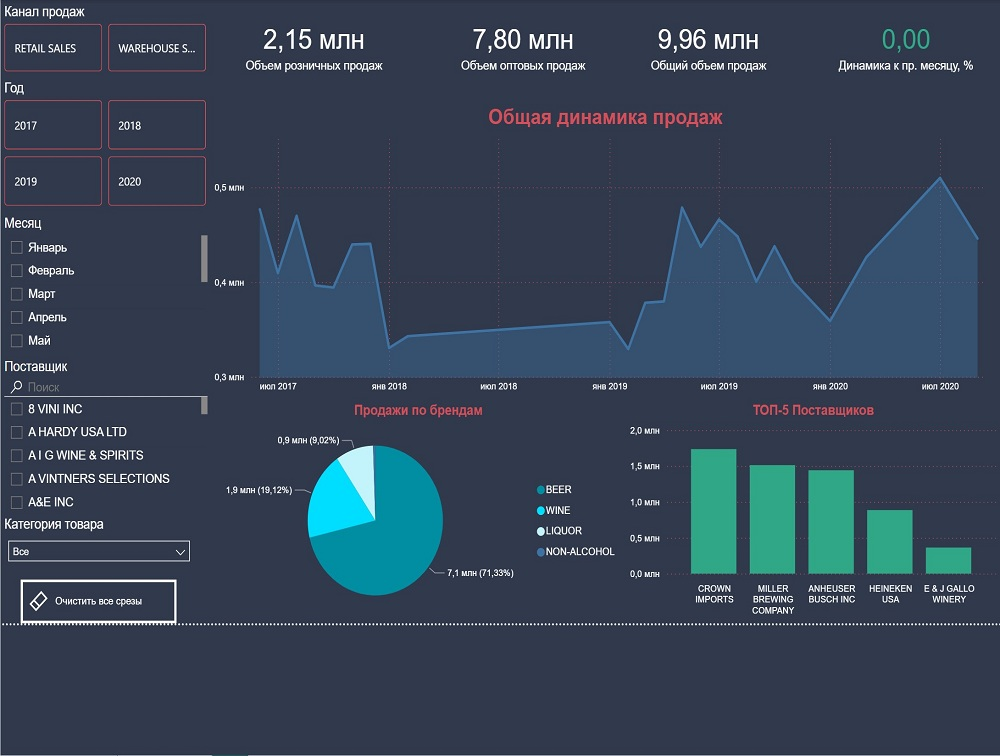

The page's visual inventory and layout, read from the dashboard file:
{"tool":"powerbi","page":{"name":"Страница 1","canvas":[1280,720],"ordinal":0},"visuals":[{"type":"lineChart","title":"Общая динамика продаж","fields":{"Y":["Sum(tbl_Sales_All.Sales Amount)"],"Category":["Dim_Date.Date"]},"box":[269.3,116.1,1010.7,345.9],"z":0},{"type":"pieChart","title":"Продажи по брендам","fields":{"Category":["Dim_Categories.ITEM TYPE"],"Y":["Sum(tbl_Sales_All.Sales Amount)"]},"box":[269.3,460.8,531.8,259.2],"z":1000},{"type":"columnChart","title":"ТОП-5 Поставщиков","fields":{"Category":["Dim_Suppliers.SUPPLIER"],"Y":["Sum(tbl_Sales_All.Sales Amount)"]},"box":[801.1,460.8,478.9,259.2],"z":2000},{"type":"card","fields":{"Values":["Sum(tbl_Sales_All.Sales Amount)"]},"box":[270.6,0,262.3,104.4],"z":3000},{"type":"card","fields":{"Values":["Sum(tbl_Sales_All.Sales Amount)"]},"box":[538.4,0,262.3,104.4],"z":4000},{"type":"card","fields":{"Values":["Sum(tbl_Sales_All.Sales Amount)"]},"box":[774.6,0,262.3,104.4],"z":5000},{"type":"advancedSlicerVisual","title":"Год","fields":{"Values":["Dim_Date.Year"]},"box":[0,88.4,268.8,155.9],"z":6000},{"type":"slicer","title":"Категория товара","fields":{"Values":["Dim_Categories.ITEM TYPE"]},"box":[0,592.2,252.6,61.4],"z":7000},{"type":"actionButton","box":[26.3,669.5,199.7,50.5],"z":8000},{"type":"slicer","title":"Месяц","fields":{"Values":["Dim_Date.Month name"]},"box":[0,244.4,270,165.2],"z":9000},{"type":"advancedSlicerVisual","title":"Канал продаж","fields":{"Values":["tbl_Sales_All.Sales Channel"]},"box":[0,0,268.8,88.4],"z":10000},{"type":"slicer","title":"Поставщик","fields":{"Values":["Dim_Suppliers.SUPPLIER"]},"box":[0,409.6,270,183.9],"z":11000},{"type":"card","fields":{"Values":["tbl_Sales_All.Sales MoM %"]},"box":[1036.9,0,244.5,104.4],"z":12000}]}

Visuals, with their boxes on the page's 1280x720 design canvas (x1, y1, x2, y2). These are canvas units, not pixel positions in the 1000x756 screenshot, which may show the page scaled, cropped or inside an application window:
"Общая динамика продаж" lineChart: BBox(269, 116, 1280, 462)
"Продажи по брендам" pieChart: BBox(269, 461, 801, 720)
"ТОП-5 Поставщиков" columnChart: BBox(801, 461, 1280, 720)
card - Sum(tbl_Sales_All.Sales Amount): BBox(271, 0, 533, 104)
card - Sum(tbl_Sales_All.Sales Amount): BBox(538, 0, 801, 104)
card - Sum(tbl_Sales_All.Sales Amount): BBox(775, 0, 1037, 104)
"Год" advancedSlicerVisual: BBox(0, 88, 269, 244)
"Категория товара" slicer: BBox(0, 592, 253, 654)
actionButton: BBox(26, 670, 226, 720)
"Месяц" slicer: BBox(0, 244, 270, 410)
"Канал продаж" advancedSlicerVisual: BBox(0, 0, 269, 88)
"Поставщик" slicer: BBox(0, 410, 270, 594)
card - tbl_Sales_All.Sales MoM %: BBox(1037, 0, 1281, 104)
